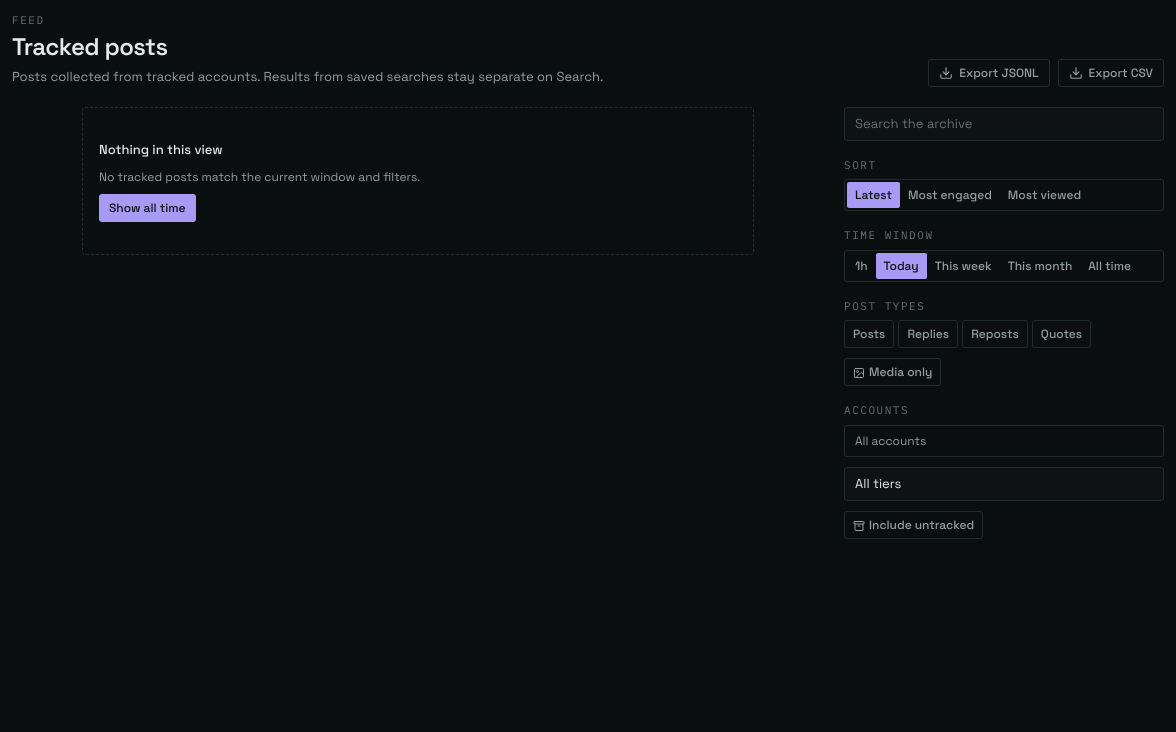
Test case: Feed export › says so when the export hit the row ceiling
Click the button "Export CSV" at (1111, 72), box [1058,58,1164,86]
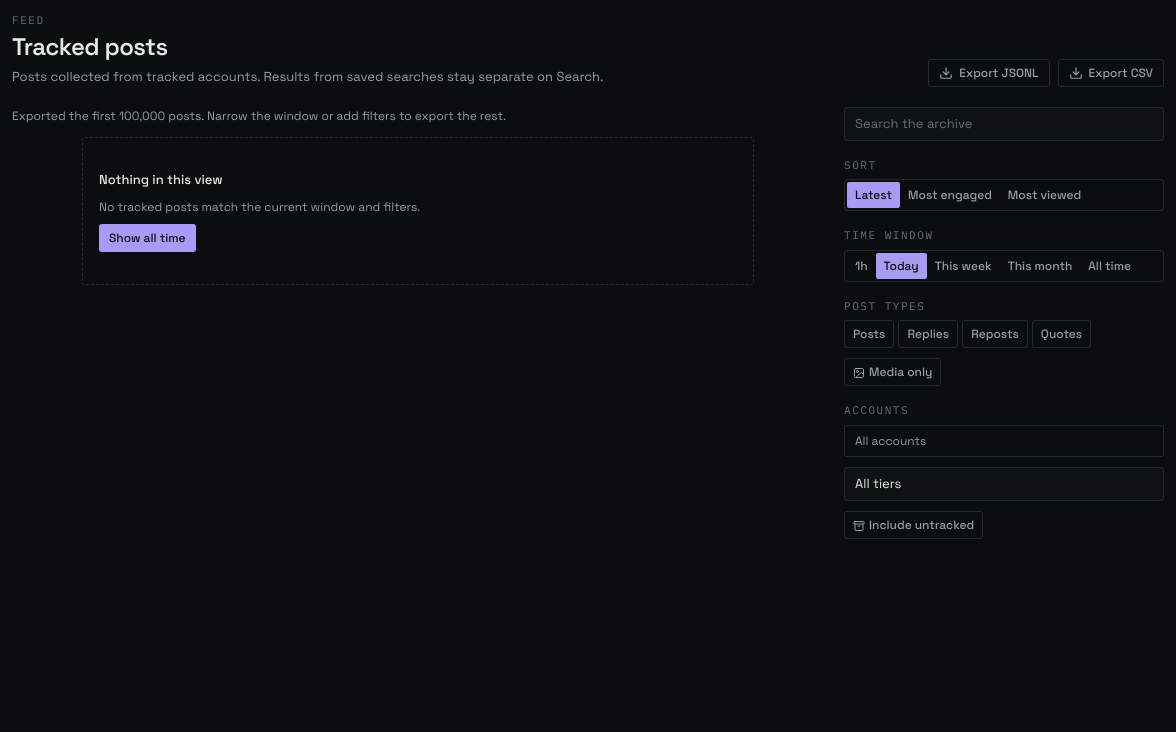
Now the text "first 100,000 posts" is shown, box [12,108,506,124]
